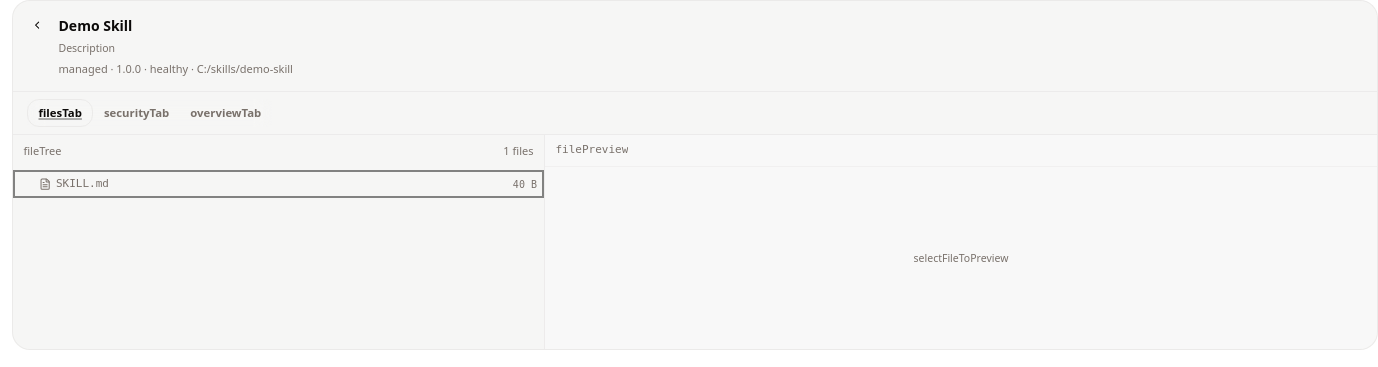
lazy Skill file details › keeps the default Files tab body-free until a file is selected
Expected: the tabs read "filesTab", "securityTab", "overviewTab", in this order, [27, 99, 93, 127]; [93, 99, 180, 127]; [180, 99, 272, 127]
Expected: the text "selectFileToPreview" is shown, [914, 250, 1008, 264]
Click the list item "SKILL.md 40 B" at coordinates (82, 183), box [13, 170, 544, 198]
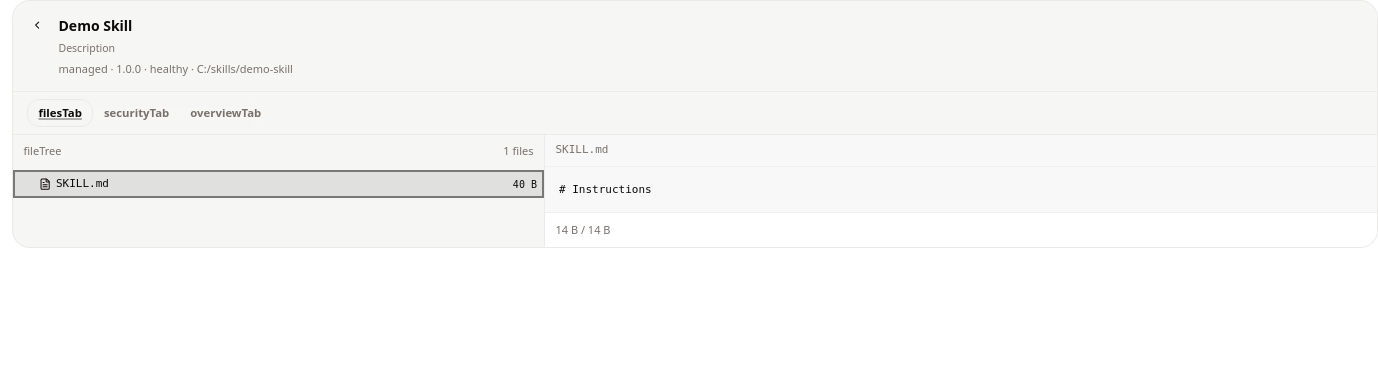
Result: the text "# Instructions" is shown at [559, 182, 652, 196]
